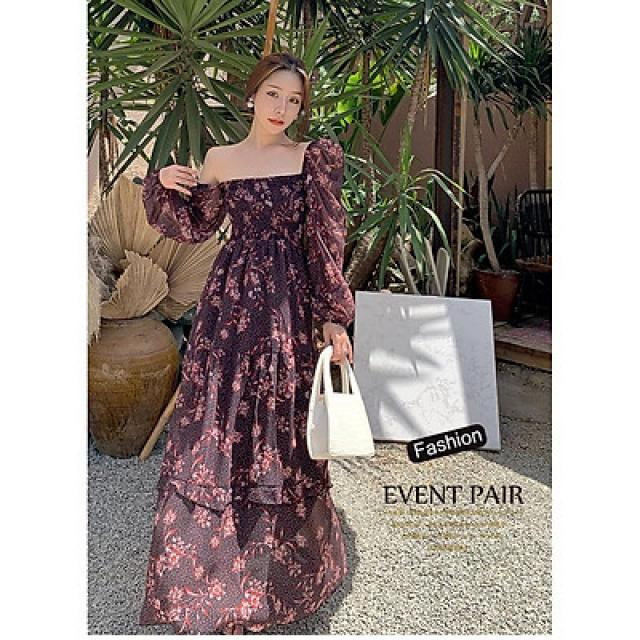clothes: (142, 137, 354, 630)
